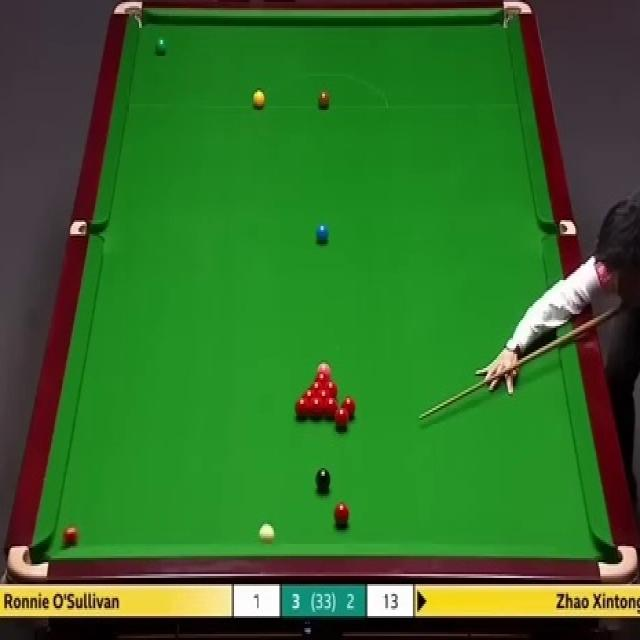black-ball: (316, 468, 332, 494)
blue-ball: (316, 224, 329, 243)
brown-ball: (317, 91, 330, 110)
green-ball: (155, 38, 167, 56)
pink-ball: (316, 360, 333, 373)
red-ball: (333, 502, 349, 528), (62, 524, 78, 548), (324, 397, 339, 420), (294, 396, 309, 418), (334, 408, 348, 431), (342, 396, 356, 419), (309, 396, 323, 418), (325, 380, 338, 396), (312, 370, 330, 380), (308, 380, 324, 390), (316, 389, 332, 397), (302, 389, 316, 398)
white-ball: (259, 518, 276, 545)
yellow-ball: (252, 89, 265, 108)
